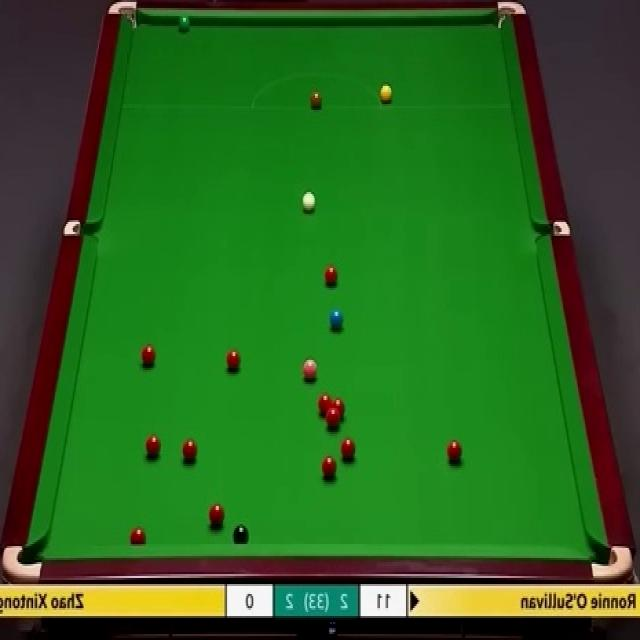black-ball: (233, 524, 251, 546)
blue-ball: (329, 308, 345, 333)
brown-ball: (310, 88, 324, 111)
green-ball: (176, 13, 191, 32)
pink-ball: (302, 354, 317, 382)
red-ball: (224, 347, 242, 375), (321, 455, 338, 483), (446, 439, 463, 466), (209, 503, 226, 529), (145, 433, 162, 459), (338, 436, 354, 461), (322, 266, 338, 290), (182, 439, 198, 463), (141, 343, 156, 368), (318, 394, 332, 418), (130, 526, 146, 546), (326, 410, 339, 430), (332, 398, 345, 418)
white-ball: (300, 189, 318, 217)
yellow-ball: (380, 83, 394, 103)
